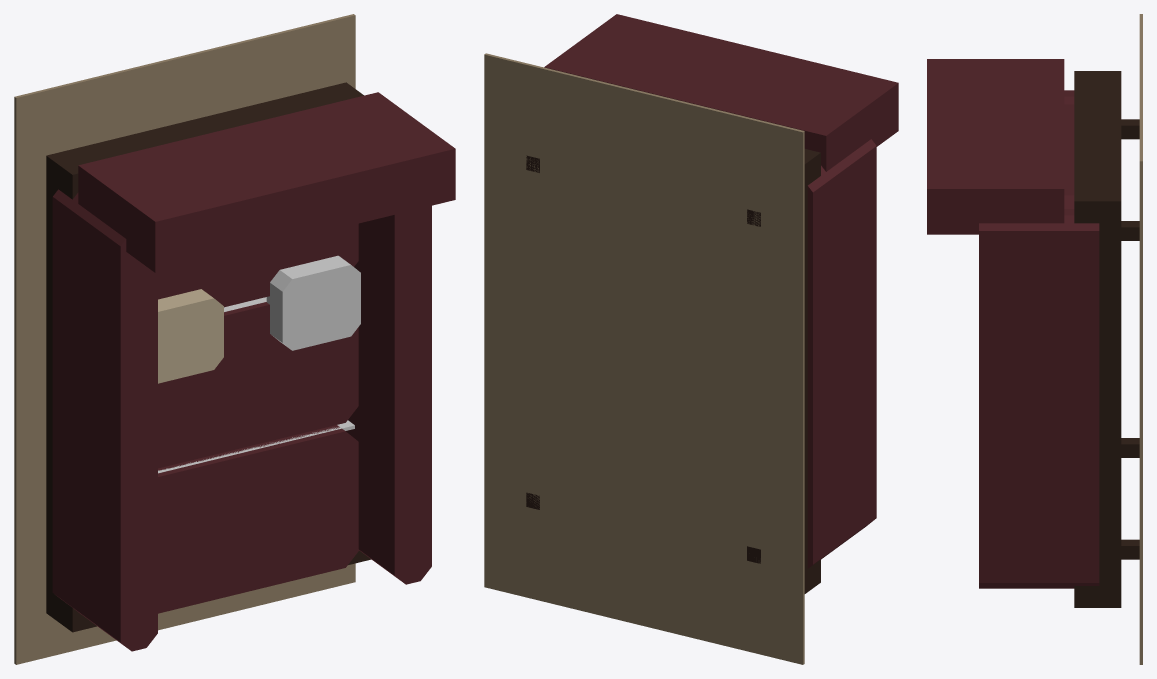
File: SM_BSW_Department_SofaVignette_A.obj
The picture shows the model from 3 angles, left to right: view 1: azimuth 30°, elevation 25°; view 2: azimuth 150°, elevation 25°; view 3: azimuth 270°, elevation 25°; orthographic projection. The views are drawn at different scales.
Parts seen in each view (by area): view 1: SM_BSW_Department_SofaVignette_A; view 2: SM_BSW_Department_SofaVignette_A; view 3: SM_BSW_Department_SofaVignette_A.
Part boxes in pixels (x1,y1,x2,y2): SM_BSW_Department_SofaVignette_A: (14, 14, 455, 664); SM_BSW_Department_SofaVignette_A: (484, 14, 898, 664); SM_BSW_Department_SofaVignette_A: (927, 14, 1142, 664).
Bounding box in the file's own units: 208 × 332 × 129.
